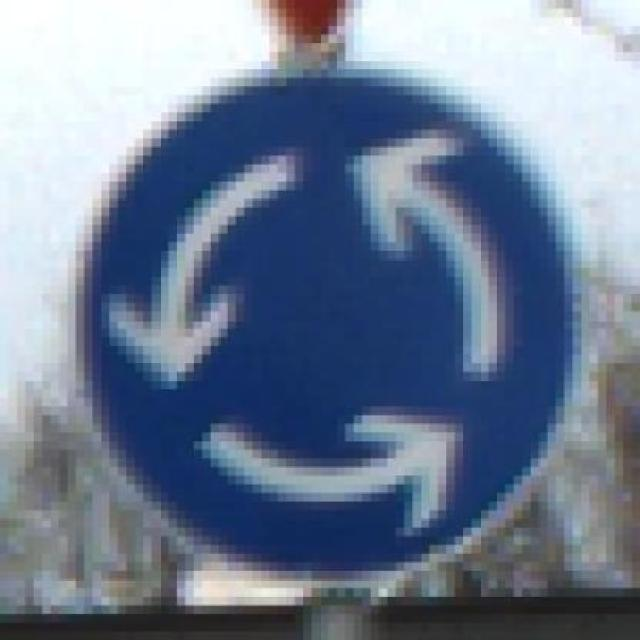Round-About: (50, 60, 607, 597)
